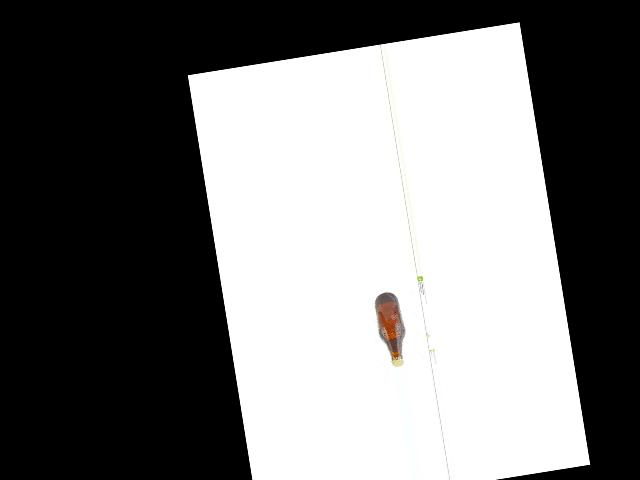beer: (373, 290, 411, 368)
